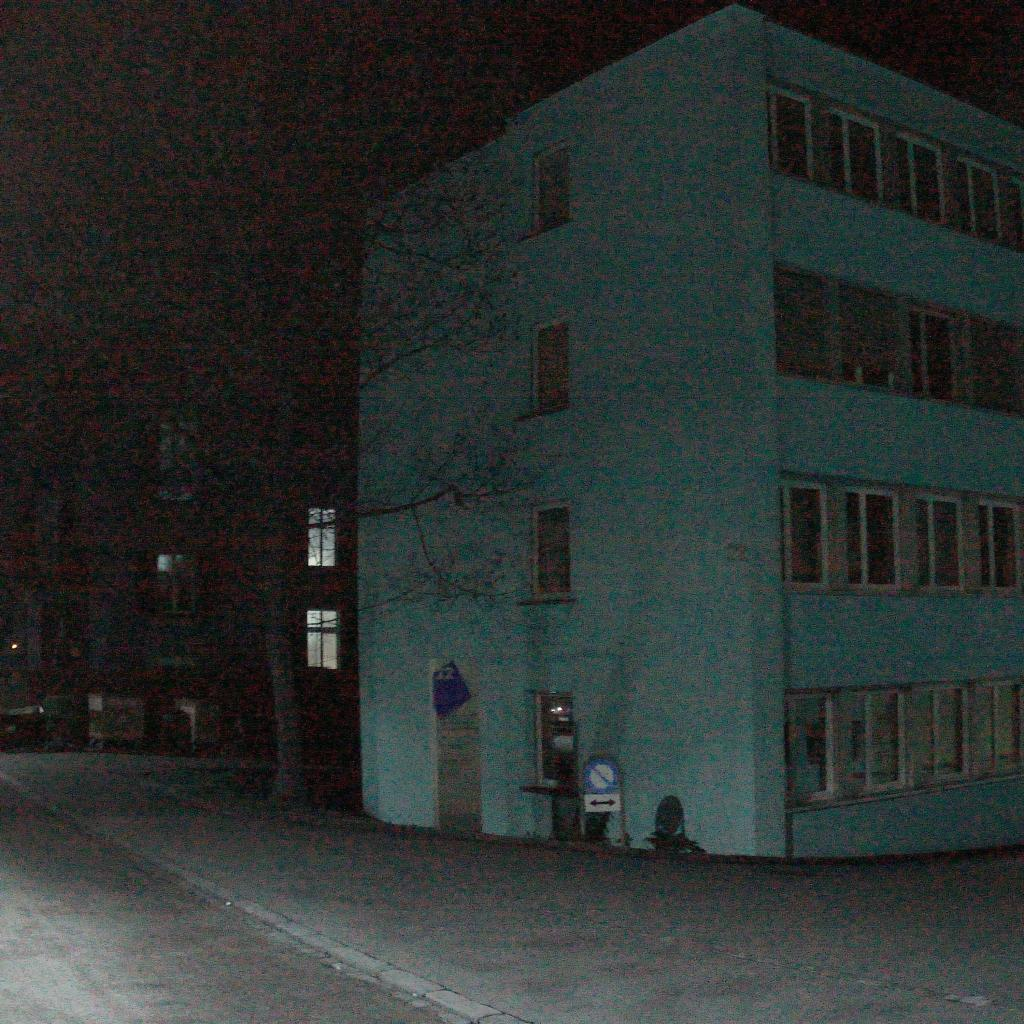facade: (353, 0, 1024, 859), (23, 204, 359, 753)
street: (0, 738, 1024, 1024)
traffic-infrastructure: (577, 748, 628, 843)
vegetation: (0, 0, 586, 810)
window: (776, 264, 832, 379), (846, 689, 906, 796), (821, 107, 884, 207), (840, 282, 898, 390), (778, 478, 830, 591), (913, 682, 968, 786), (845, 487, 900, 590), (786, 693, 835, 803), (915, 492, 964, 590), (897, 132, 947, 226), (528, 137, 572, 238), (530, 690, 575, 788), (908, 308, 956, 399), (977, 679, 1022, 775), (530, 313, 571, 418), (972, 320, 1018, 413), (957, 158, 1004, 244), (772, 87, 813, 183), (978, 498, 1020, 591), (530, 497, 569, 596), (158, 413, 202, 500), (155, 548, 197, 615), (305, 609, 340, 670), (305, 507, 336, 566), (1009, 178, 1024, 248)
